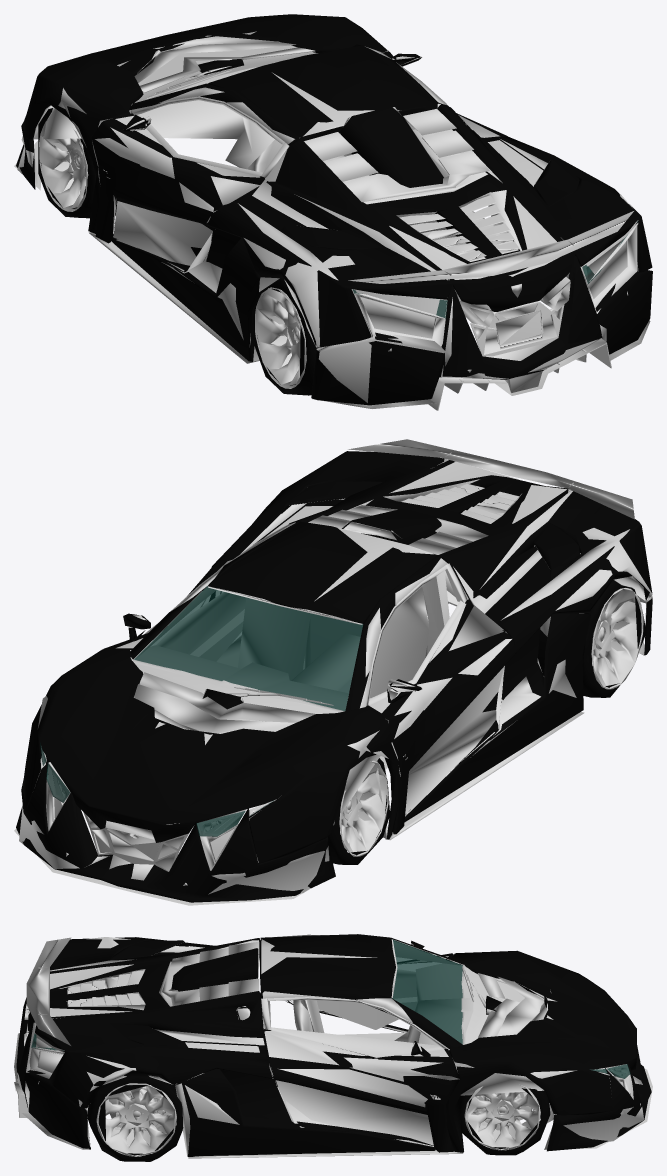
The model's file is goblin_far.glb.
3 renders of one model, top to bottom at view 1: azimuth 30°, elevation 25°; view 2: azimuth 150°, elevation 25°; view 3: azimuth 270°, elevation 25°, orthographic. The views are drawn at different scales.
Parts seen in each view (by area): view 1: clearcoat, car_body, car_wheel_BL, car_wheel_FL; view 2: clearcoat, car_body, car_glass, car_wheel_BL, car_wheel_FL; view 3: clearcoat, car_body, car_wheel_BR, car_glass, car_wheel_FR.
Boxes of the visible parts, x1,y1,x2,y2 form: clearcoat: (16,14,652,405); car_body: (14,31,652,410); car_wheel_BL: (252,278,319,395); car_wheel_FL: (38,108,117,218); clearcoat: (16,451,652,902); car_body: (14,439,652,905); car_glass: (40,586,363,836); car_wheel_BL: (538,580,646,697); car_wheel_FL: (328,758,389,864); clearcoat: (16,934,651,1156); car_body: (14,934,652,1158); car_wheel_BR: (87,1076,183,1161); car_glass: (31,939,630,1078); car_wheel_FR: (458,1085,550,1155).
Bounding box in the file's own units: 0.0565 × 0.0301 × 0.118.
